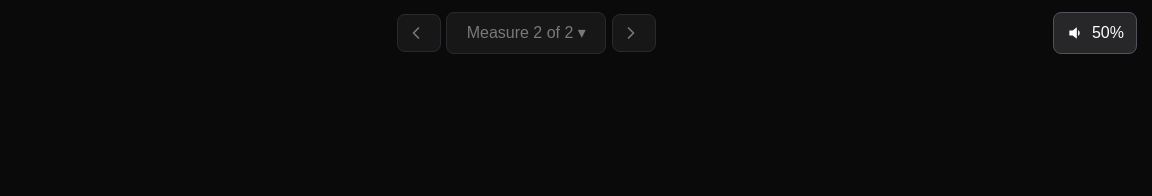
Scenario: StaffBuilderScoreToolbar › retains navigation callbacks, disabled meaning, and volume disclosure
This screenshot has width=1152, height=196.
Expected: the button named "Previous Measure" is disabled, [397,14,441,52]
Step 1. Click the button named "Instrument volume, 50 percent" → (1095, 33), box [1053,12,1137,54]
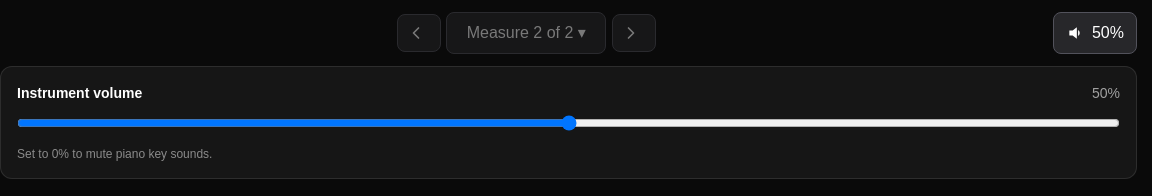
Expected: the slider labelled "Instrument volume" is shown, [17,115,1120,131]
